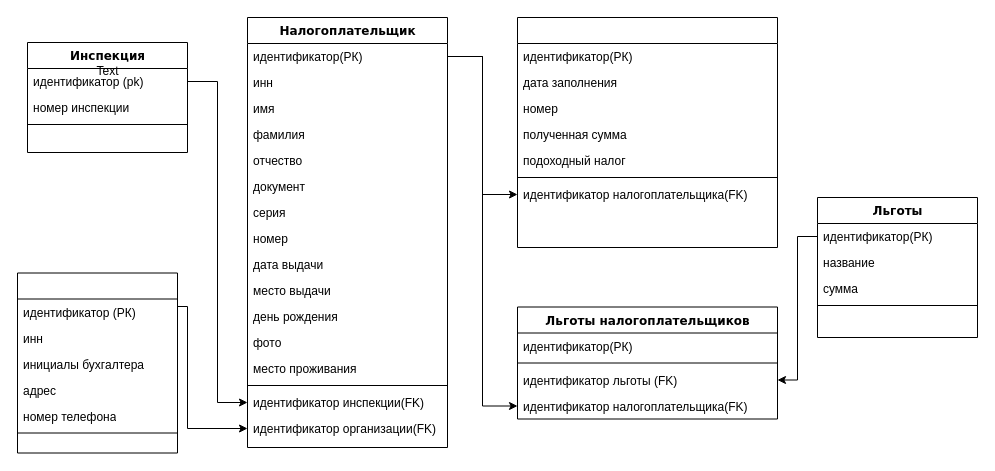
Some shapes in this 995 by 471 pixel diagram are drawn without their labels. The shapes that lost their labels are listed below. From the top down, each one's box as (x1, y1, x2, y2) in pixels, then its label:
(516, 16, 778, 248): Декларации
(16, 272, 178, 453): организация
